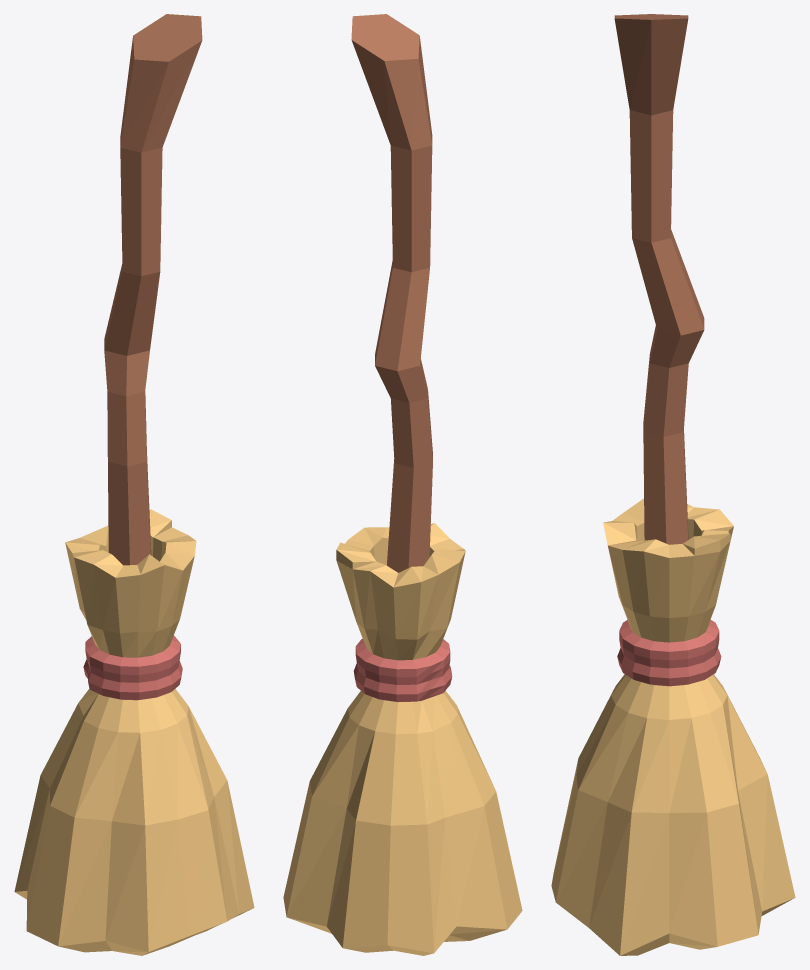
Rendered from broom_attack.fbx.
The picture shows the model from 3 angles, left to right: view 1: azimuth 30°, elevation 25°; view 2: azimuth 150°, elevation 25°; view 3: azimuth 270°, elevation 25°; orthographic projection. The views are drawn at different scales.
Visible parts, largest first — view 1: Broom_1; view 2: Broom_1; view 3: Broom_1.
Part boxes in pixels (bbox=[...]): Broom_1: bbox=[14, 14, 254, 955]; Broom_1: bbox=[283, 14, 522, 955]; Broom_1: bbox=[551, 14, 795, 955].
Bounding box in the file's own units: 106 × 458 × 107.
